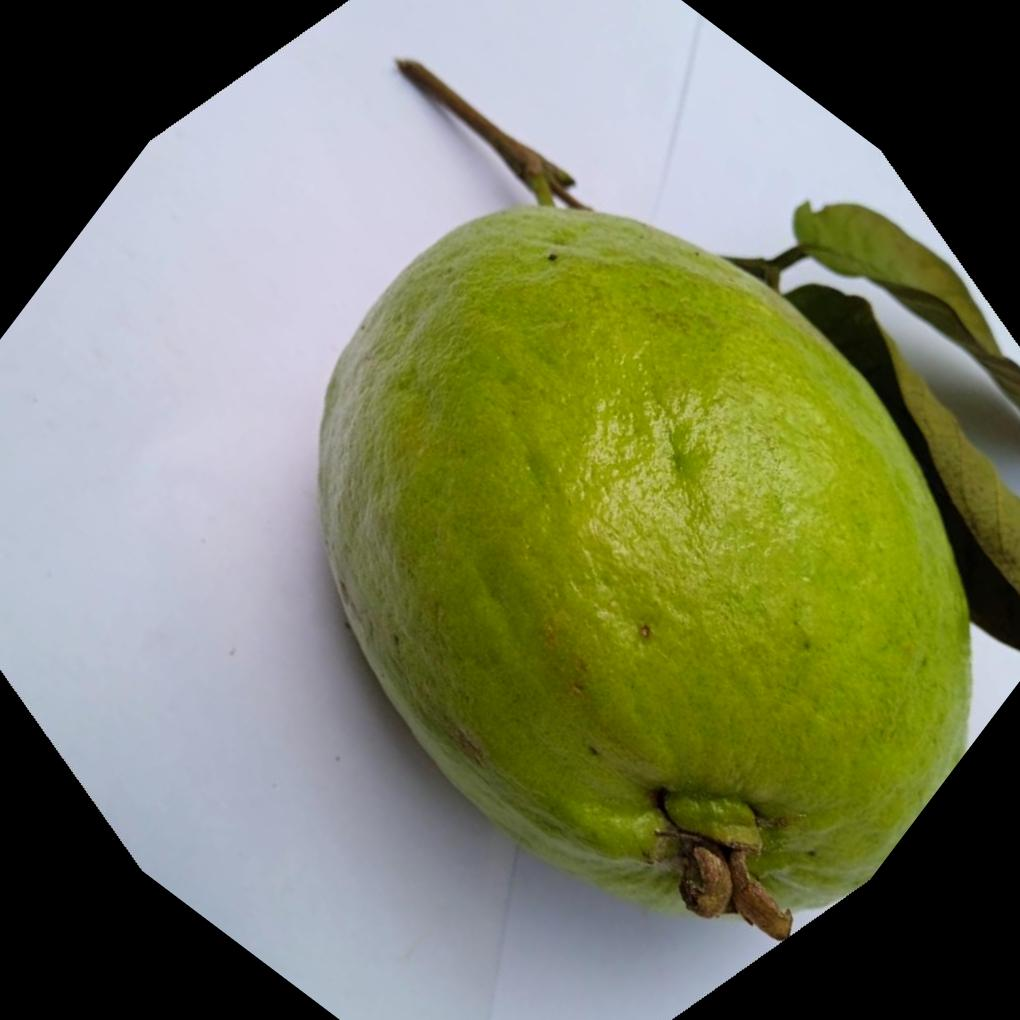FreshGuava: (312, 203, 973, 943)
